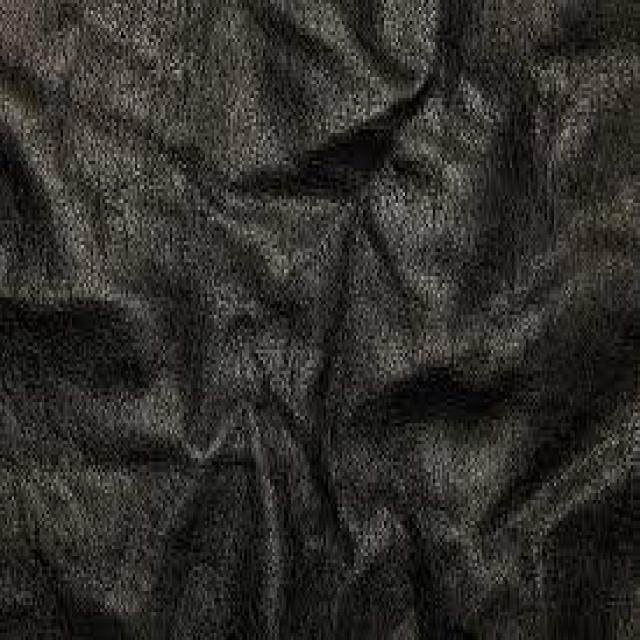Crease: (224, 99, 395, 335), (396, 416, 602, 598)
